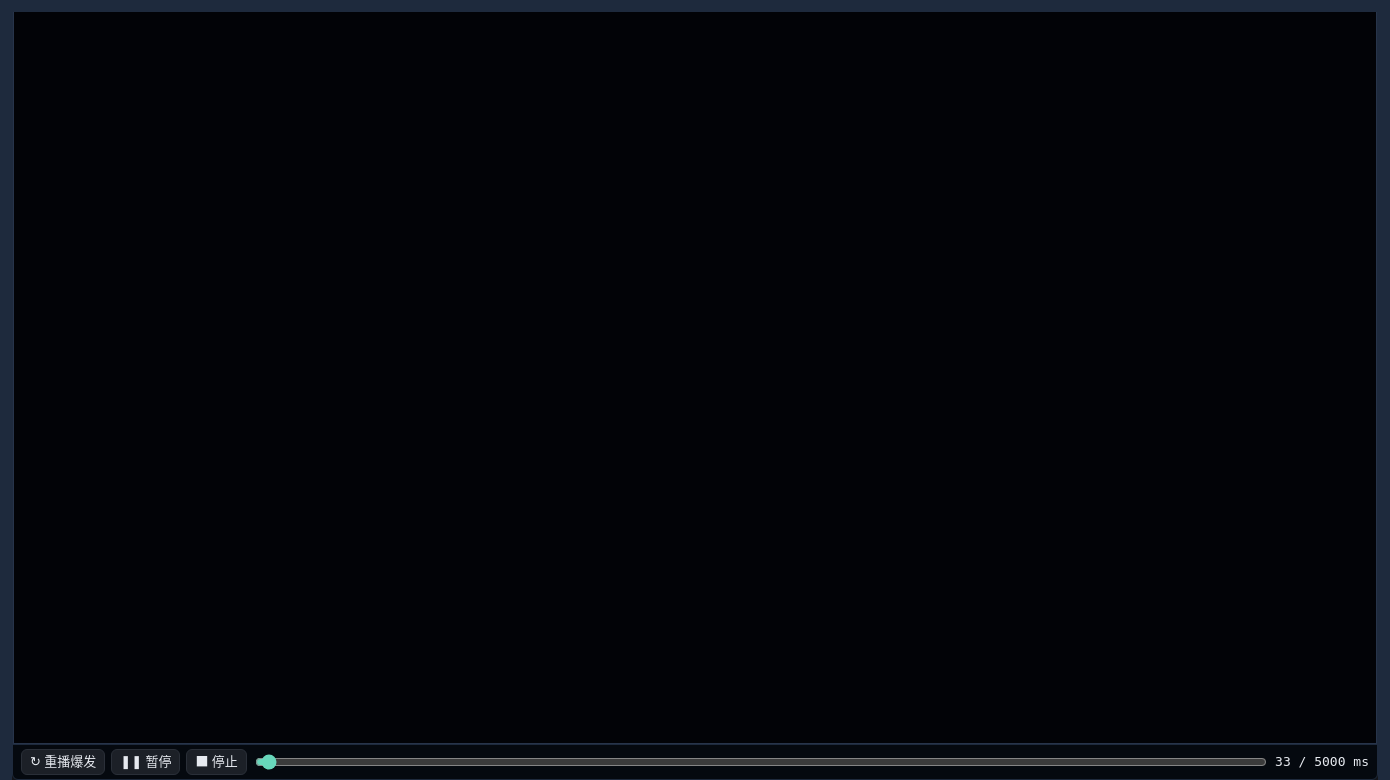
Test: CuePreview transient burst transport › keeps the newest seek target visible while launching without drawing an empty frame
(page scrolled)
Click the button "❚❚ 暂停": (146, 762) left=111, top=749, right=180, bottom=775
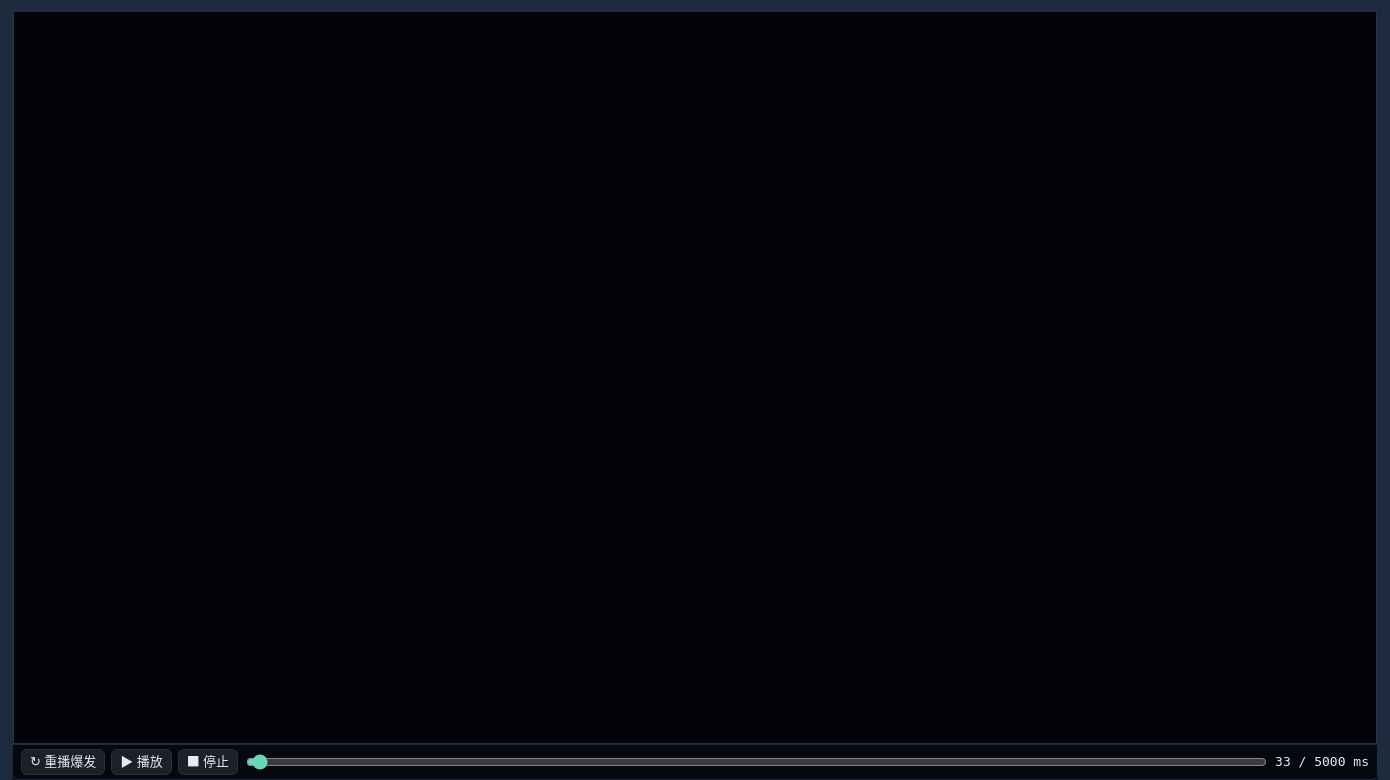
Set the slider to "80": (270, 762) left=246, top=752, right=1267, bottom=772
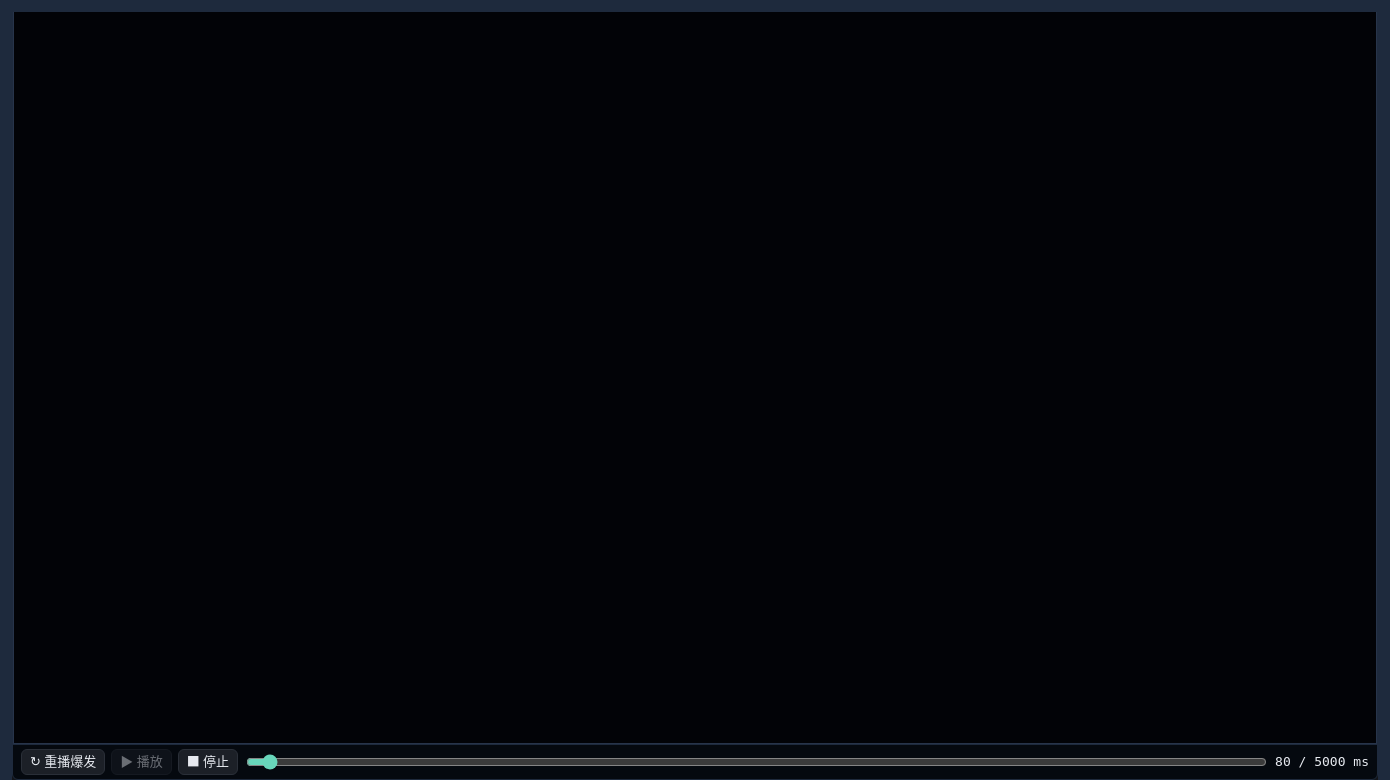
Now the button "▶ 播放" is disabled, box left=111, top=749, right=172, bottom=775
Set the slider to "150": (284, 762) left=246, top=752, right=1267, bottom=772
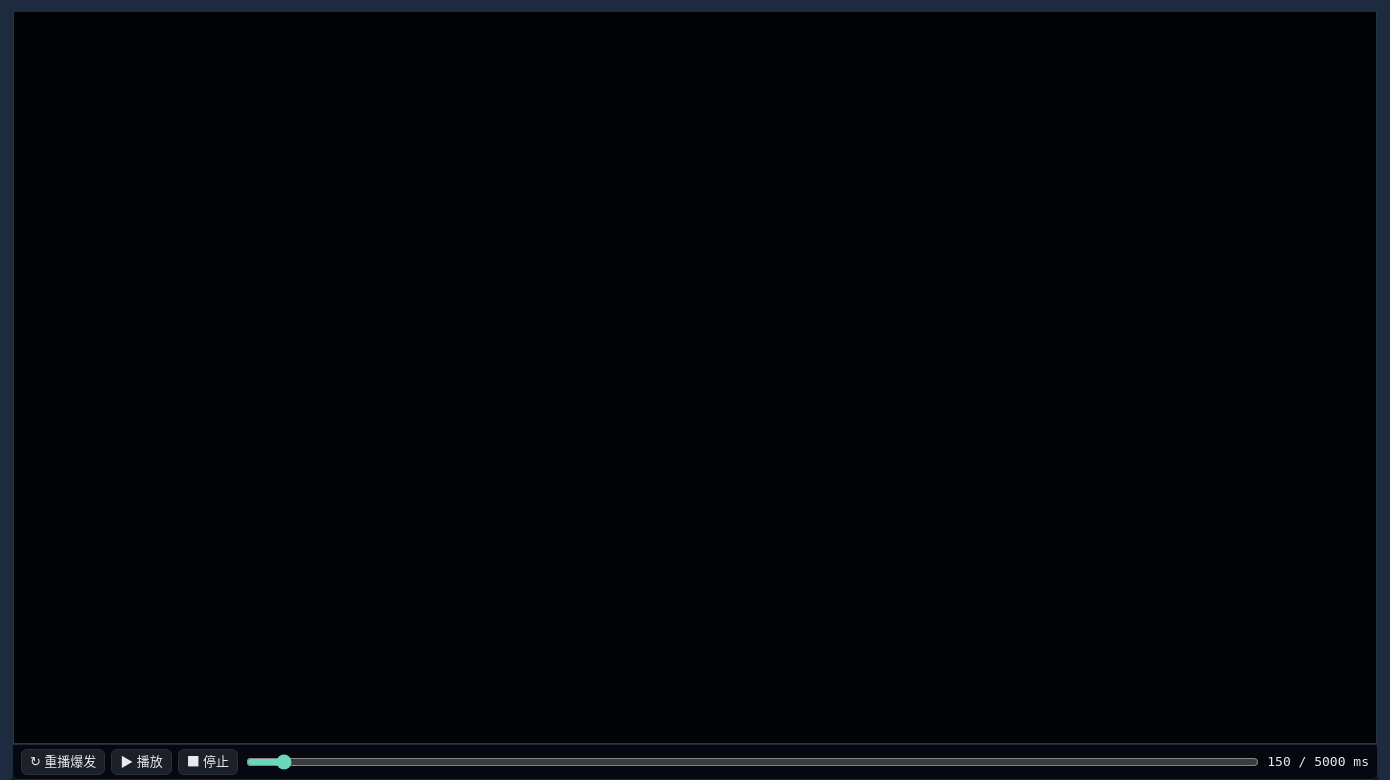
Now the button "▶ 播放" is enabled, box left=111, top=749, right=172, bottom=775
